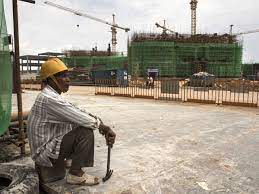arm: (56, 91, 119, 141)
face: (53, 68, 73, 88)
helmet: (37, 55, 70, 81)
human: (24, 51, 119, 193)
leg: (36, 164, 54, 193)
nofootwear: (63, 167, 101, 185)
noglove: (101, 124, 117, 143)
nogoggle: (56, 71, 71, 79)
novest: (28, 89, 78, 156)
